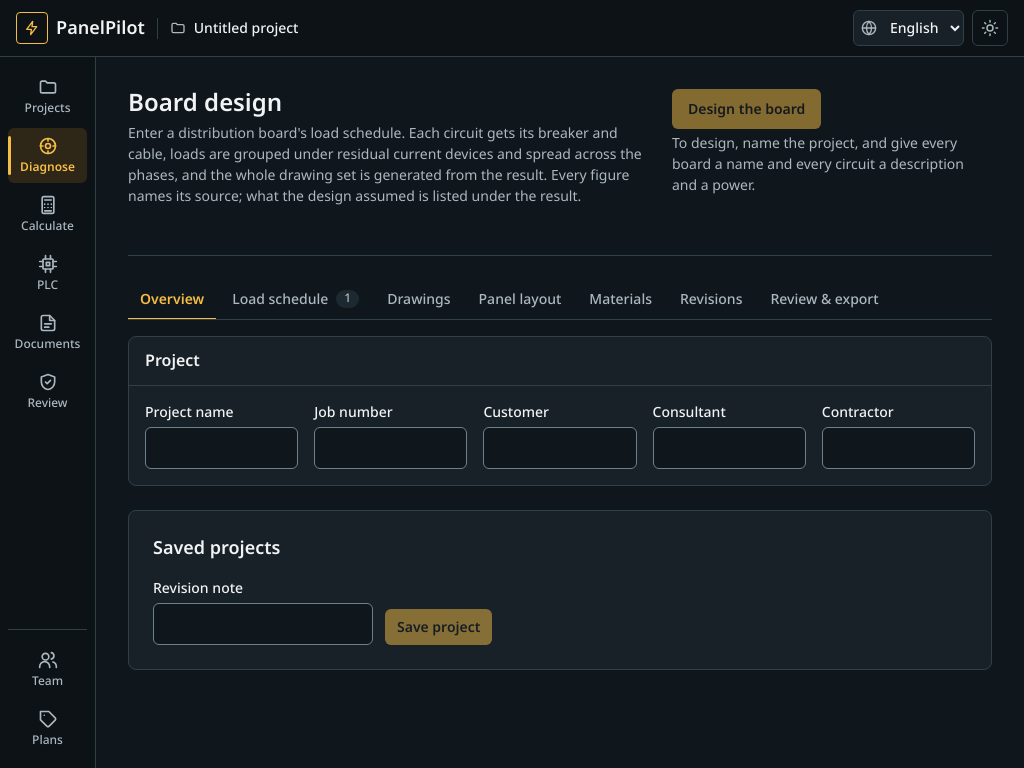
Test: unsaved changes › asks before leaving only once something has been entered
Check: the text with test id "design-incomplete" is shown, box [672,133,992,196]
Type "Tower" into the field labelled "Project name" at point(222, 448), box [145,427,298,469]
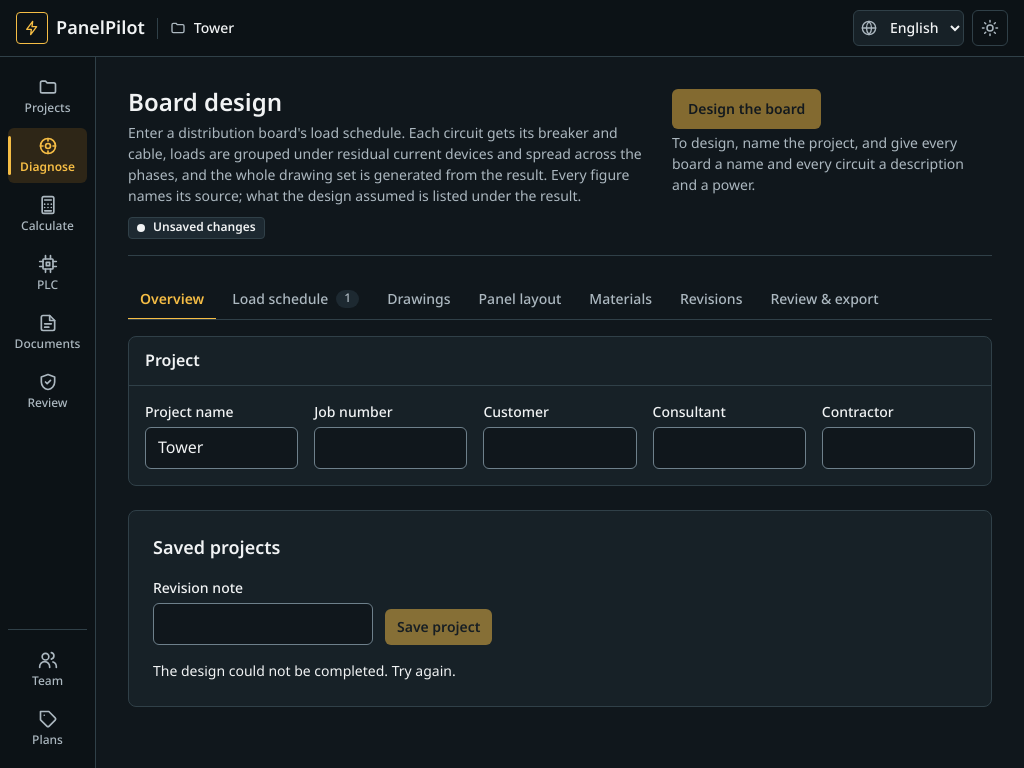
Check: the text "Unsaved changes" is shown, box [128,217,265,239]
# Undoing the edit is not unsaved work.
Clear the field labelled "Project name" at point(222, 448), box [145,427,298,469]
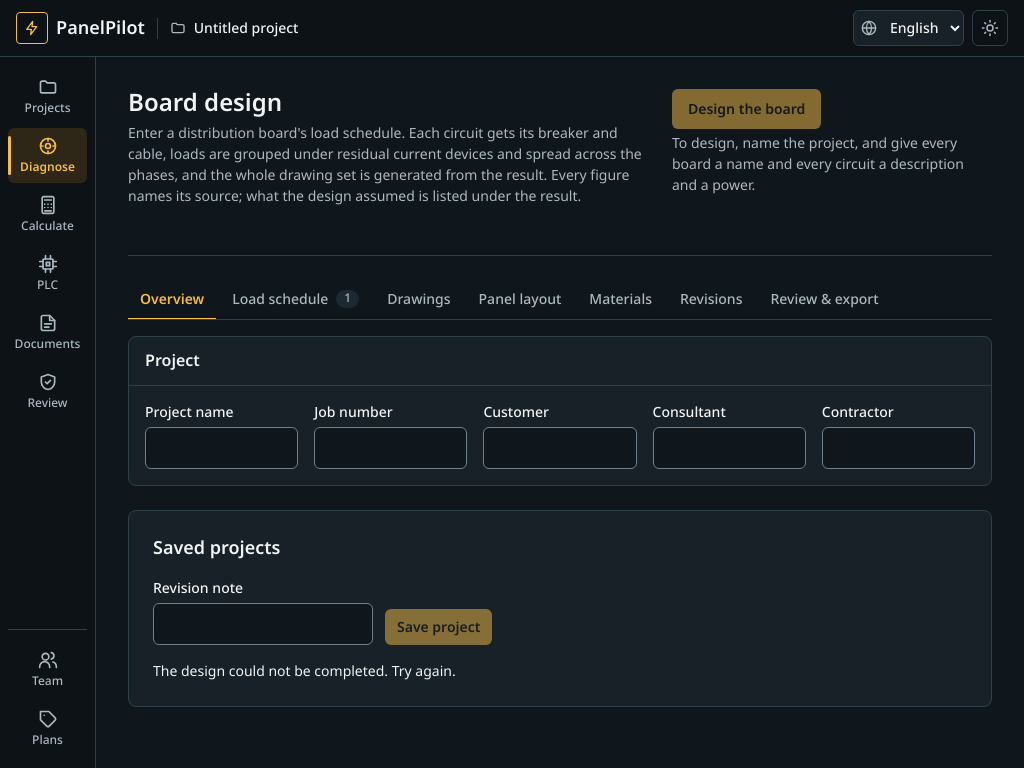
Check: the text "Unsaved changes" is gone
